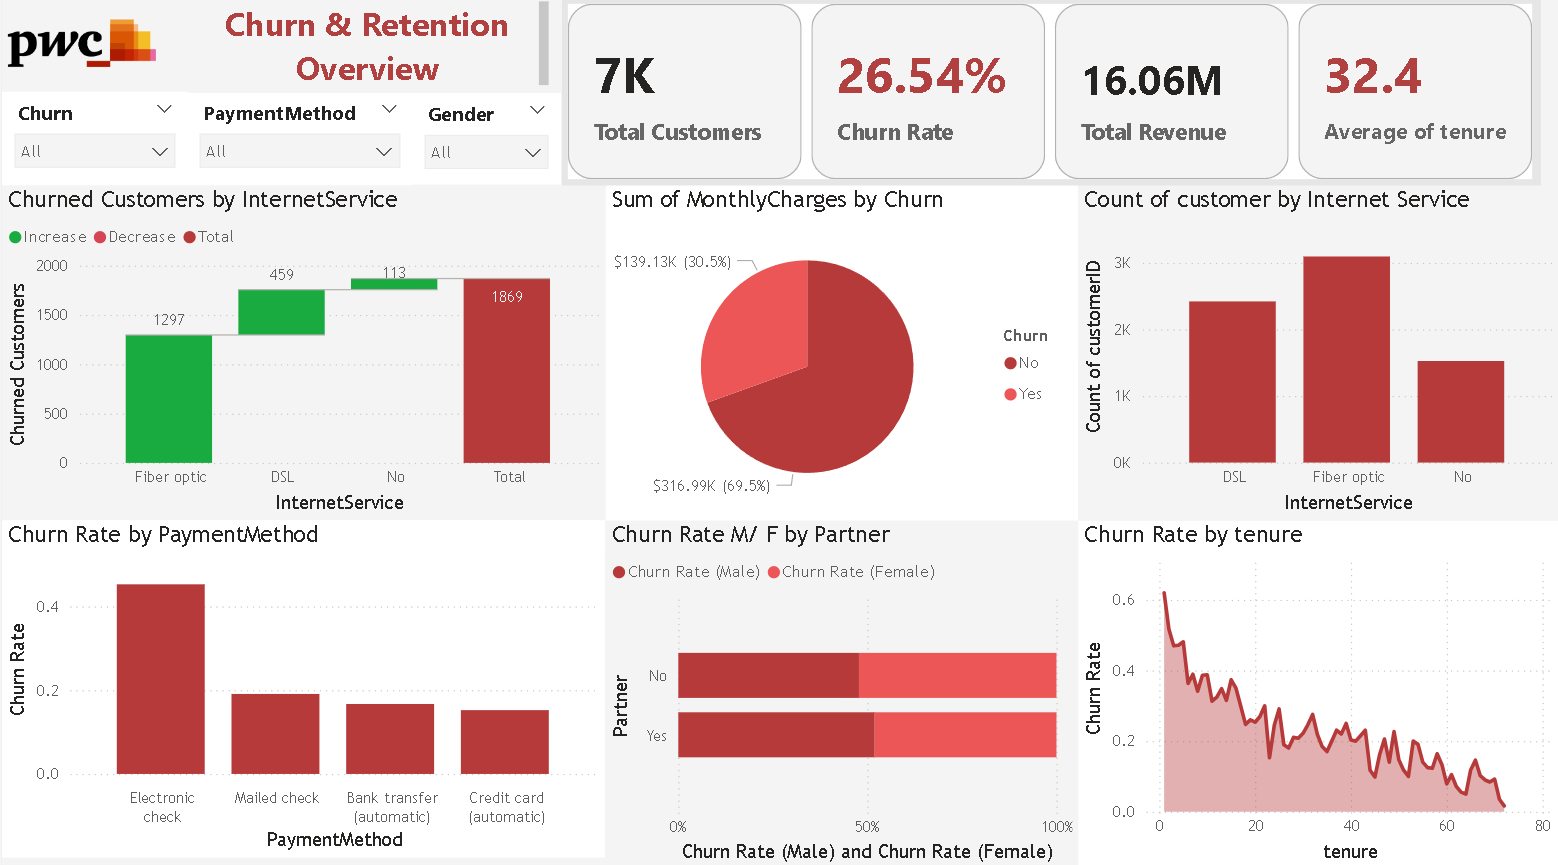

What the dashboard file says about the page in this screenshot:
{"tool":"powerbi","page":{"name":"customer Retention Overview","canvas":[1280,720],"ordinal":0},"visuals":[{"type":"areaChart","fields":{"Category":["Customer_Table.tenure"],"Y":["Customer_Table.Churn Rate"]},"box":[883.7,433.7,396.5,287.2],"z":1000},{"type":"cardVisual","fields":{"Data":["Customer_Table.Total Customers","Customer_Table.Churn Rate","Customer_Table.Total Revenue","Avg(Customer_Table.tenure)"]},"box":[459.8,3.8,803.8,155],"z":1500},{"type":"hundredPercentStackedBarChart","title":"Churn Rate M/ F by Partner","fields":{"Category":["Customer_Table.Partner","Customer_Table.Dependents"],"Y":["Customer_Table.Churn Rate (Male)","Customer_Table.Churn Rate (Female)"]},"box":[495.4,433.7,388.4,287.2],"z":2000},{"type":"pieChart","fields":{"Category":["Customer_Table.Churn"],"Y":["Sum(Customer_Table.MonthlyCharges)"]},"box":[495.4,158.1,388.4,275.6],"z":3000},{"type":"lineClusteredColumnComboChart","title":"Count of customer by Internet Service","fields":{"Category":["Customer_Table.InternetService","Customer_Table.PhoneService","Customer_Table.OnlineSecurity","Customer_Table.StreamingMovies","Customer_Table.StreamingTV","Customer_Table.Churn"],"Y":["CountNonNull(Customer_Table.customerID)"]},"box":[883.7,158.1,396.5,275.6],"z":4000},{"type":"waterfallChart","fields":{"Category":["Customer_Table.InternetService","Customer_Table.DeviceProtection","Customer_Table.OnlineBackup","Customer_Table.OnlineSecurity","Customer_Table.PhoneService","Customer_Table.StreamingMovies","Customer_Table.StreamingTV","Customer_Table.TechSupport"],"Y":["Customer_Table.Churned Customers"]},"box":[0,158.1,495.4,275.6],"z":4500},{"type":"columnChart","fields":{"Y":["Customer_Table.Churn Rate"],"Category":["Customer_Table.PaymentMethod"]},"box":[0,433.4,495.1,277.2],"z":5000},{"type":"slicer","fields":{"Values":["Customer_Table.gender"]},"box":[337.2,82.6,122.1,75.6],"z":7000},{"type":"slicer","fields":{"Values":["Customer_Table.Churn"]},"box":[0,81.4,152.3,76.7],"z":8000},{"type":"slicer","fields":{"Values":["Customer_Table.PaymentMethod"]},"box":[152.3,81.4,184.9,76.7],"z":9000},{"type":"image","box":[0,0,131,81.9],"z":10000},{"type":"textbox","box":[152.5,2.5,301.2,80],"z":11000}]}

Visuals, with their boxes in screenshot pixels (x1, y1, x2, y2), scaled from the page's 1280x720 canvas onto the 1558x865 screenshot:
areaChart - Customer_Table.tenure x Customer_Table.Churn Rate: [left=1076, top=521, right=1557, bottom=864]
cardVisual - Customer_Table.Total Customers x Customer_Table.Churn Rate: [left=560, top=5, right=1538, bottom=191]
"Churn Rate M/ F by Partner" hundredPercentStackedBarChart: [left=603, top=521, right=1076, bottom=864]
pieChart - Customer_Table.Churn x Sum(Customer_Table.MonthlyCharges): [left=603, top=190, right=1076, bottom=521]
"Count of customer by Internet Service" lineClusteredColumnComboChart: [left=1076, top=190, right=1557, bottom=521]
waterfallChart - Customer_Table.InternetService x Customer_Table.DeviceProtection: [left=0, top=190, right=603, bottom=521]
columnChart - Customer_Table.Churn Rate x Customer_Table.PaymentMethod: [left=0, top=521, right=603, bottom=854]
slicer - Customer_Table.gender: [left=410, top=99, right=559, bottom=190]
slicer - Customer_Table.Churn: [left=0, top=98, right=185, bottom=190]
slicer - Customer_Table.PaymentMethod: [left=185, top=98, right=410, bottom=190]
image: [left=0, top=0, right=159, bottom=98]
textbox: [left=186, top=3, right=552, bottom=99]
